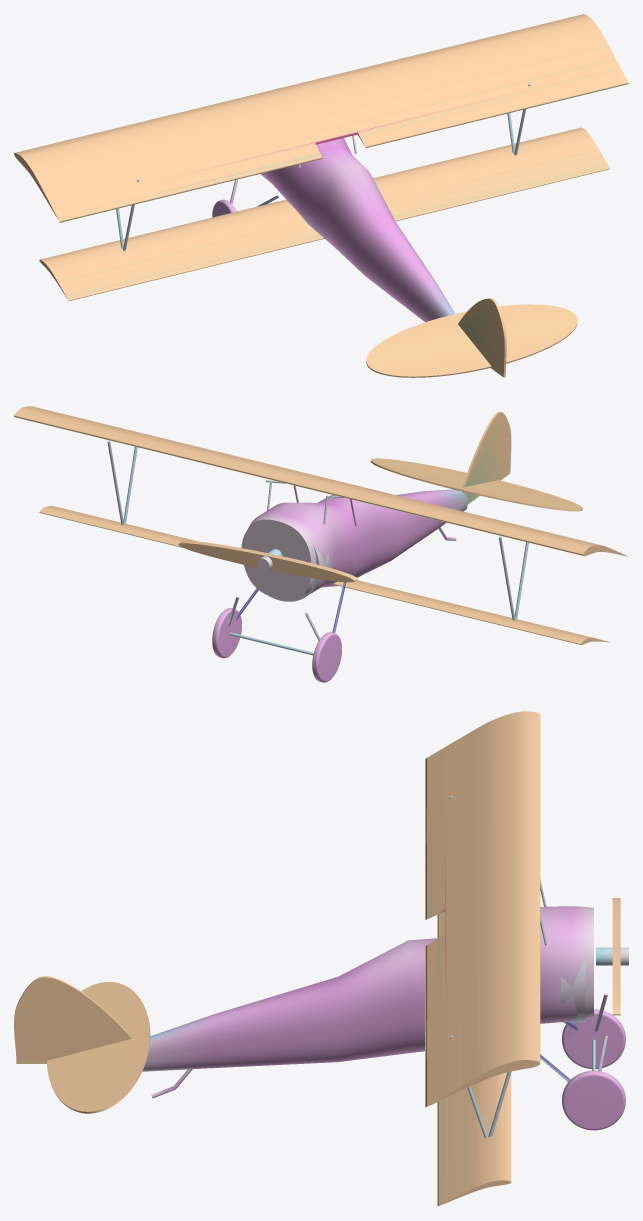
3 views of the same model, one above another, from view 1: azimuth 30°, elevation 25°; view 2: azimuth 150°, elevation 25°; view 3: azimuth 270°, elevation 25° (orthographic). The views are drawn at different scales.
Parts seen in each view (by area): view 1: upper, lower, body, tailplane, fin; view 2: body, upper, lower, tailplane, fin, blades, wheel.003, wheel; view 3: upper, body, lower, tailplane, fin, wheel, wheel.003, blades, rim.
Boxes of the visible parts, left/top/right/bottom form: upper: left=14, top=14, right=628, bottom=222; lower: left=39, top=127, right=609, bottom=300; body: left=260, top=87, right=455, bottom=322; tailplane: left=366, top=304, right=577, bottom=377; fin: left=458, top=298, right=506, bottom=377; body: left=243, top=489, right=467, bottom=599; upper: left=14, top=406, right=627, bottom=556; lower: left=39, top=506, right=609, bottom=645; tailplane: left=370, top=458, right=582, bottom=511; fin: left=462, top=411, right=511, bottom=504; blades: left=178, top=541, right=357, bottom=582; wheel.003: left=312, top=632, right=341, bottom=682; wheel: left=212, top=608, right=241, bottom=658; upper: left=425, top=711, right=540, bottom=1107; body: left=142, top=906, right=593, bottom=1071; lower: left=437, top=911, right=511, bottom=1206; tailplane: left=47, top=982, right=150, bottom=1113; fin: left=14, top=976, right=131, bottom=1063; wheel: left=562, top=1070, right=625, bottom=1130; wheel.003: left=562, top=1009, right=625, bottom=1068; blades: left=612, top=898, right=620, bottom=1015; rim: left=561, top=958, right=585, bottom=1022.
Size of the model in its own units: 10 by 2.86 by 7.45.
